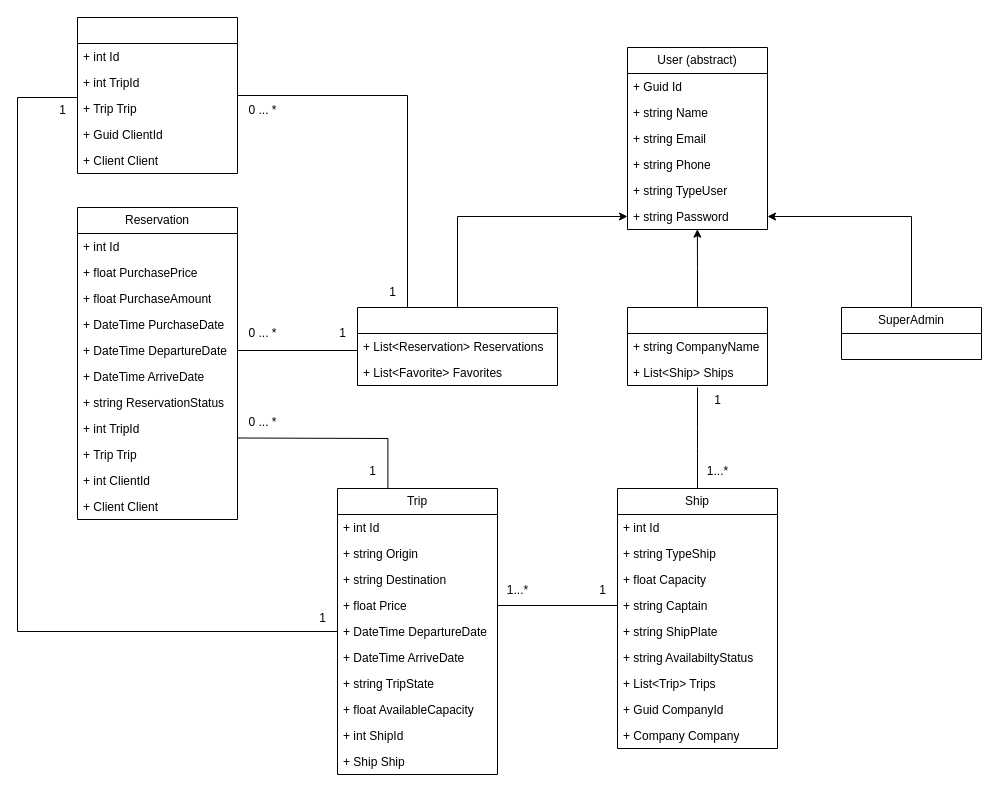
Image size: 999x795. Some labels were removed from this diagram. Each missing label, with the box of its shape:
Client: (356, 306, 558, 386)
Company (Admin): (626, 306, 768, 386)
Favorite: (76, 16, 238, 174)
